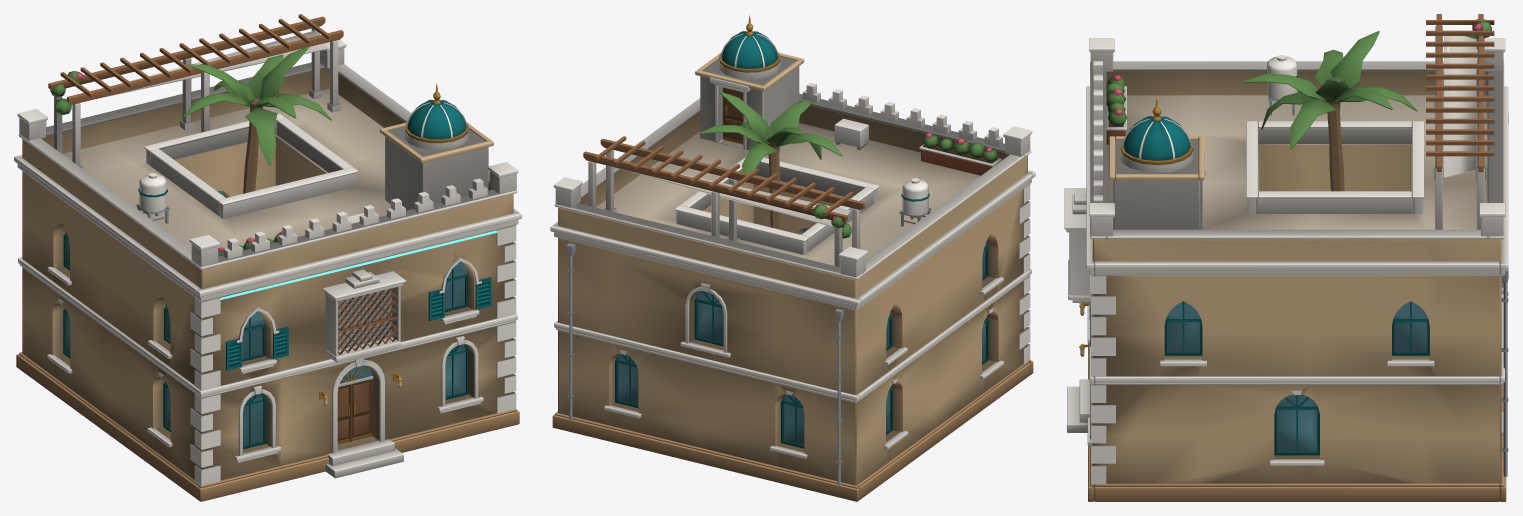
Rendered from bldg_house_a.fbx.
The picture shows the model from 3 angles, left to right: view 1: azimuth 30°, elevation 25°; view 2: azimuth 150°, elevation 25°; view 3: azimuth 270°, elevation 25°; orthographic projection. The views are drawn at different scales.
Parts seen in each view (by area): view 1: bldg_house_a; view 2: bldg_house_a; view 3: bldg_house_a.
Part boxes in pixels (x1,y1,x2,y2): bldg_house_a: (14,14,521,501); bldg_house_a: (550,15,1035,501); bldg_house_a: (1064,14,1508,501).
Bounding box in the file's own units: 11.14 × 11 × 11.74.
